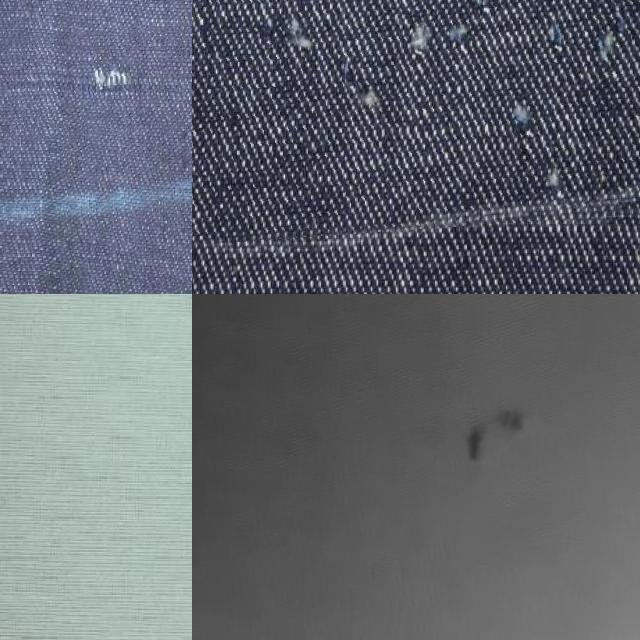Thread_other: (380, 349, 604, 525)
stains: (192, 0, 640, 240), (0, 27, 192, 139)
